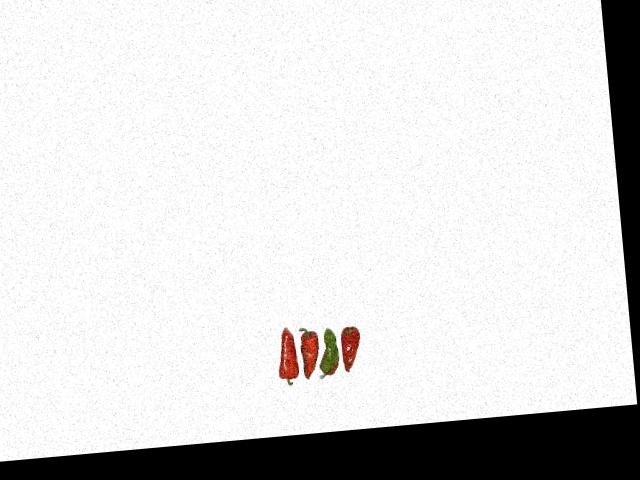bell_pepper: (338, 324, 368, 377)
